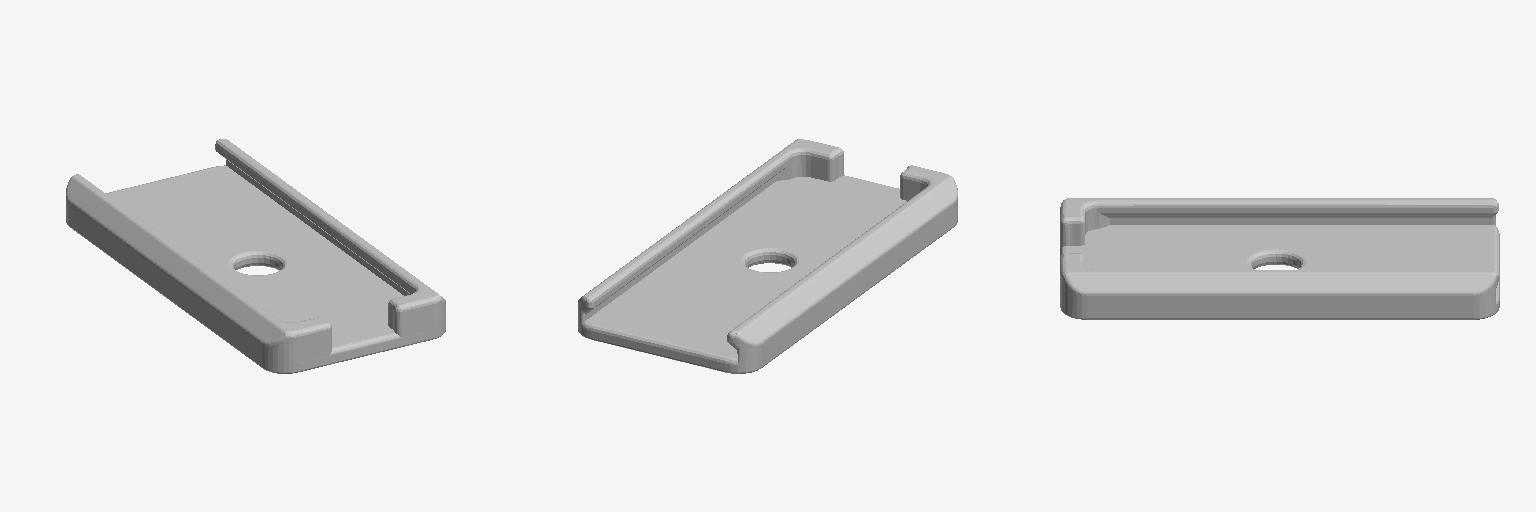
File: Ivan's Standard Mag Baseplate.obj
The picture shows the model from 3 angles: view 1: azimuth 30°, elevation 25°; view 2: azimuth 150°, elevation 25°; view 3: azimuth 270°, elevation 25°; orthographic projection.
Visible parts, largest first — view 1: Solid1; view 2: Solid1; view 3: Solid1.
Boxes of the visible parts, x1=… form: Solid1: x1=66, y1=139, x2=445, y2=373; Solid1: x1=578, y1=139, x2=957, y2=373; Solid1: x1=1060, y1=198, x2=1499, y2=319.
Size of the model in its own units: 30.68 by 6.68 by 64.52.